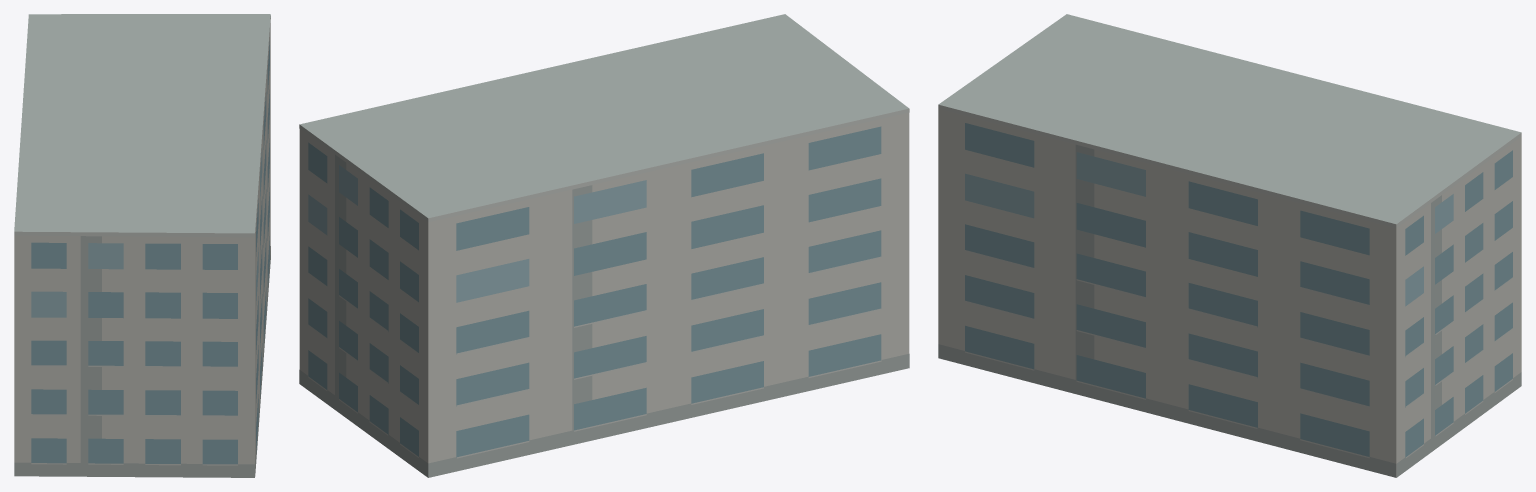
The model's file is residential-503f70fa-592c-4796-8b7c-1dd54f438170.glb.
3 views of the same model, side by side, from view 1: azimuth 30°, elevation 25°; view 2: azimuth 150°, elevation 25°; view 3: azimuth 270°, elevation 25° (orthographic). The views are drawn at different scales.
Visible parts, largest first — view 1: residential-503f70fa-592c-4796-8b7c-1dd54f438170.tmp; view 2: residential-503f70fa-592c-4796-8b7c-1dd54f438170.tmp; view 3: residential-503f70fa-592c-4796-8b7c-1dd54f438170.tmp.
Part boxes in pixels (<box>): residential-503f70fa-592c-4796-8b7c-1dd54f438170.tmp: <box>14,14,270,477</box>; residential-503f70fa-592c-4796-8b7c-1dd54f438170.tmp: <box>299,14,909,477</box>; residential-503f70fa-592c-4796-8b7c-1dd54f438170.tmp: <box>938,14,1521,477</box>.
Bounding box in the file's own units: 27.13 × 15.25 × 31.8.
